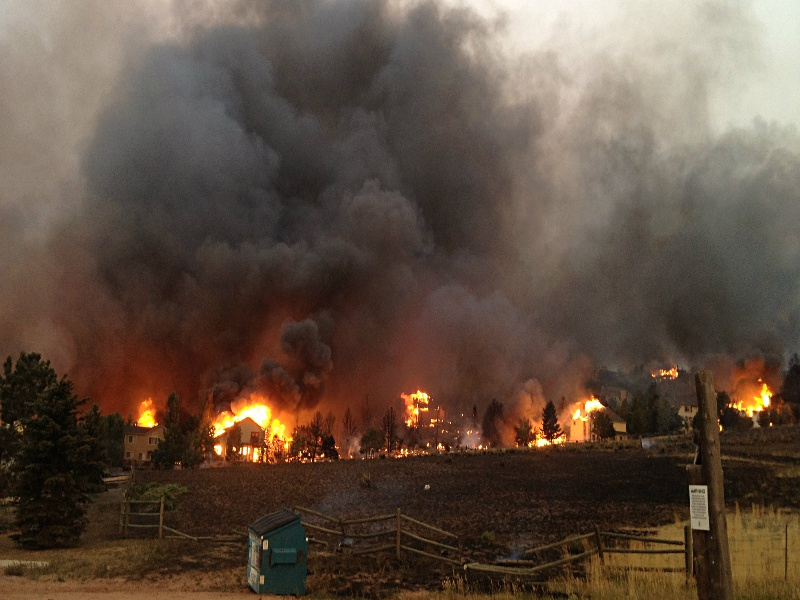smoke: (5, 1, 782, 360)
